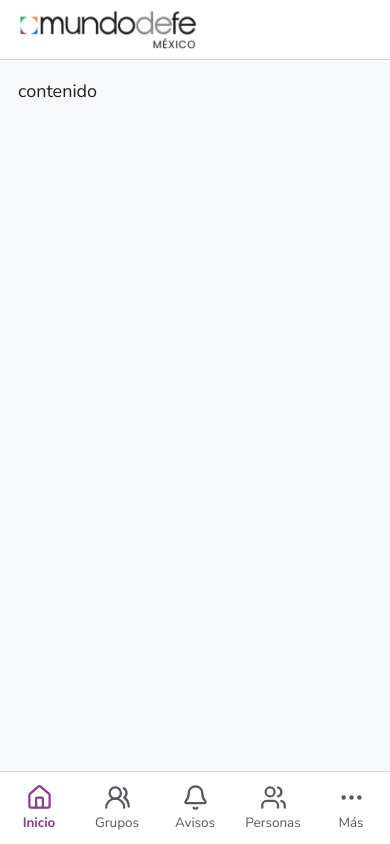
AppShell en el celular › al elegir una opción de la hoja se cierra
Click the button "Más" at (351, 808), box [312,772,389,843]
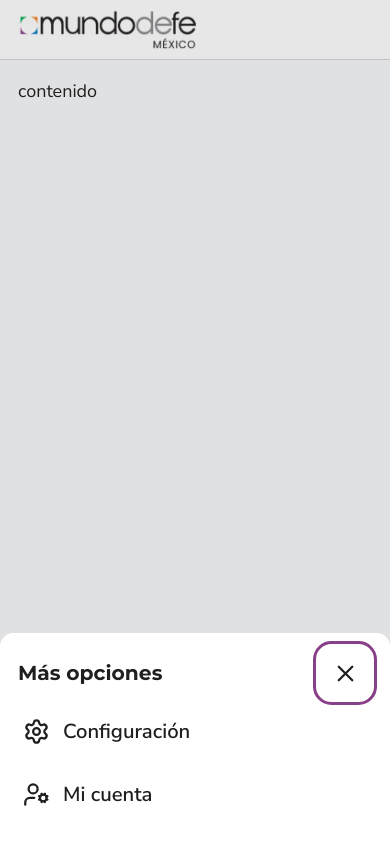
Click the link "Mi cuenta" at (88, 794), box [22,781,152,808]
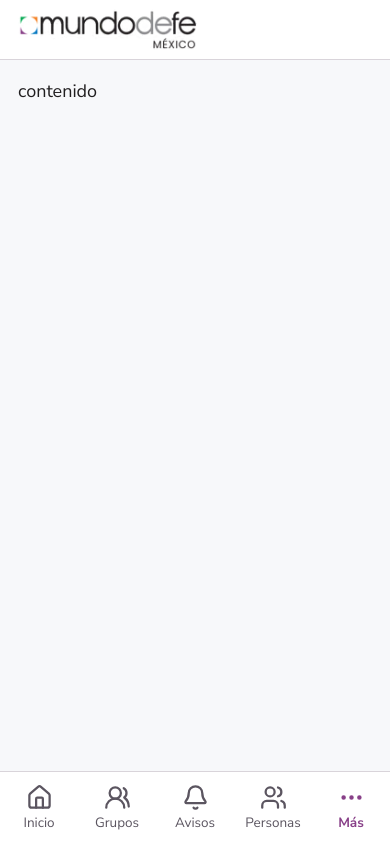
Expected: the button "Más" is collapsed, [312,772,389,843]
